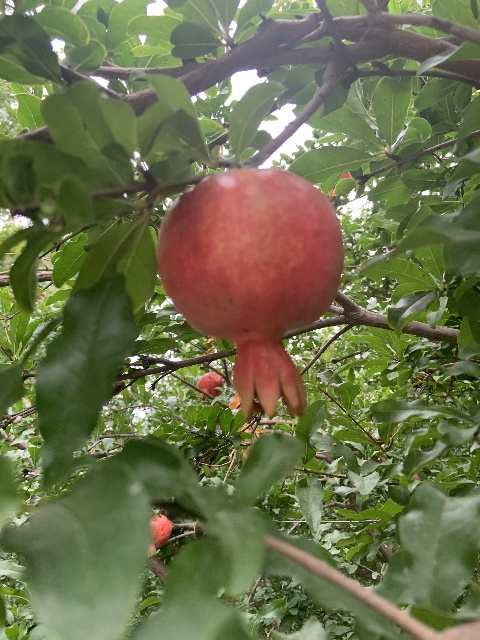ripe: (156, 167, 344, 419), (146, 513, 172, 558), (196, 371, 223, 400)
